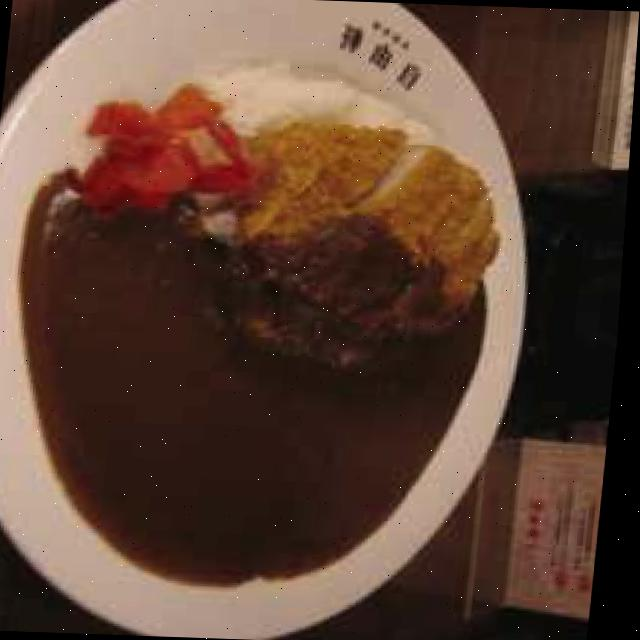猪肉菜式: (0, 0, 571, 640)
